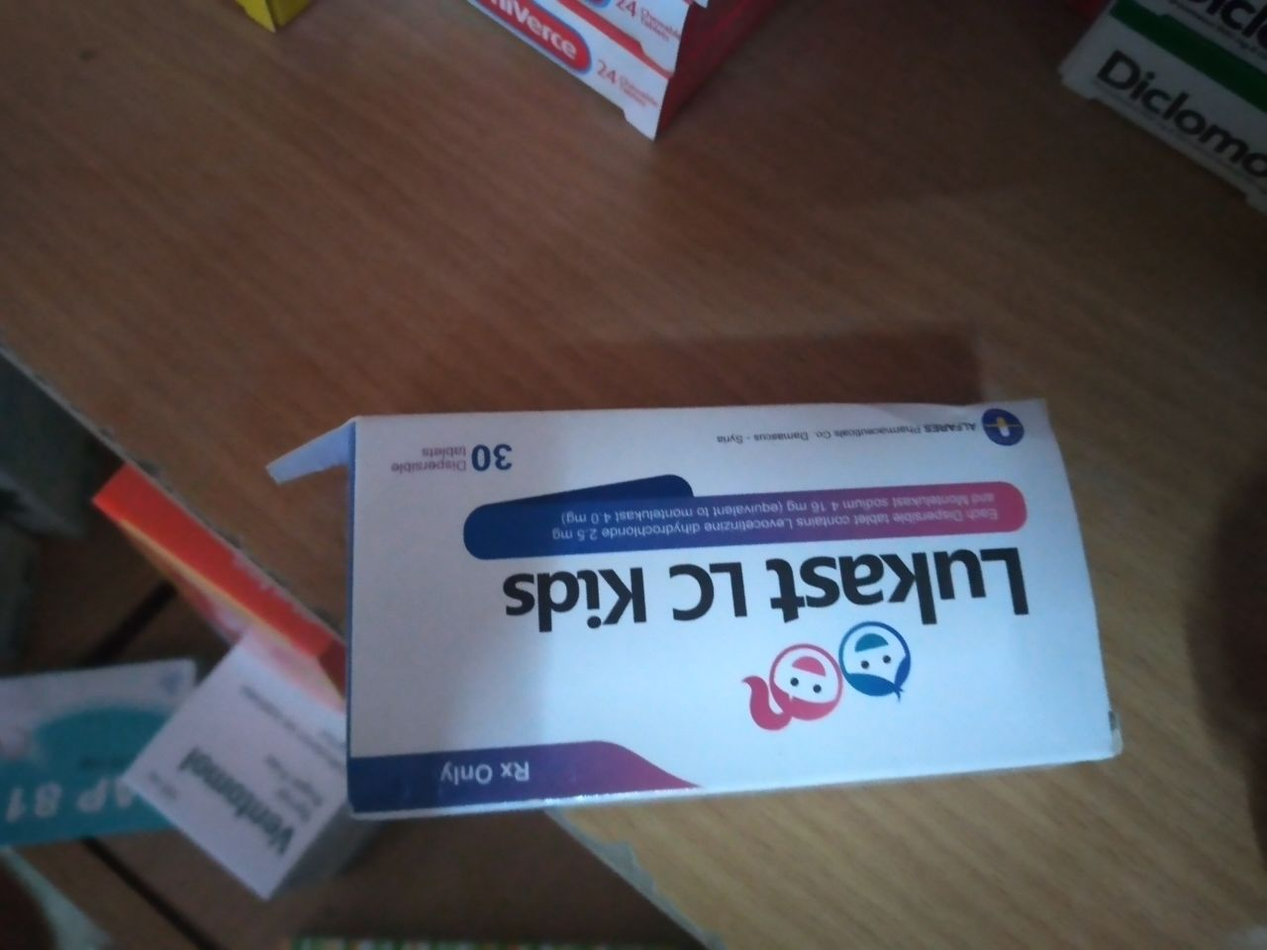Medicine: (341, 396, 1123, 807)
